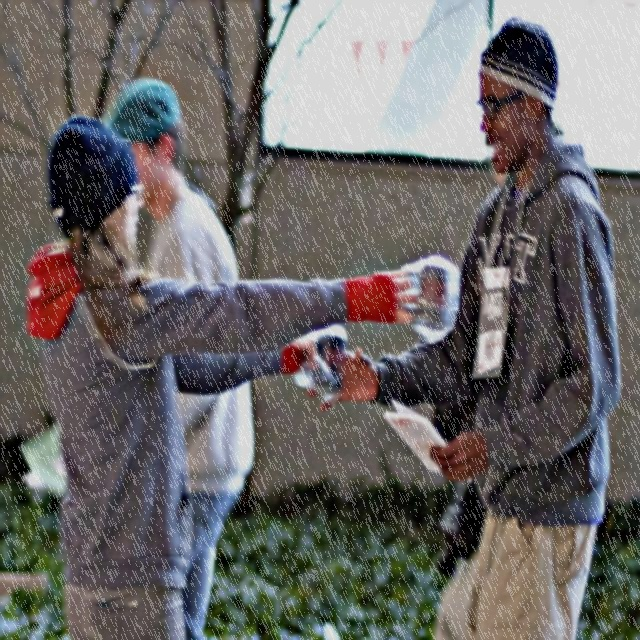pessoa: (25, 102, 468, 640), (294, 14, 630, 640), (98, 74, 258, 638)
